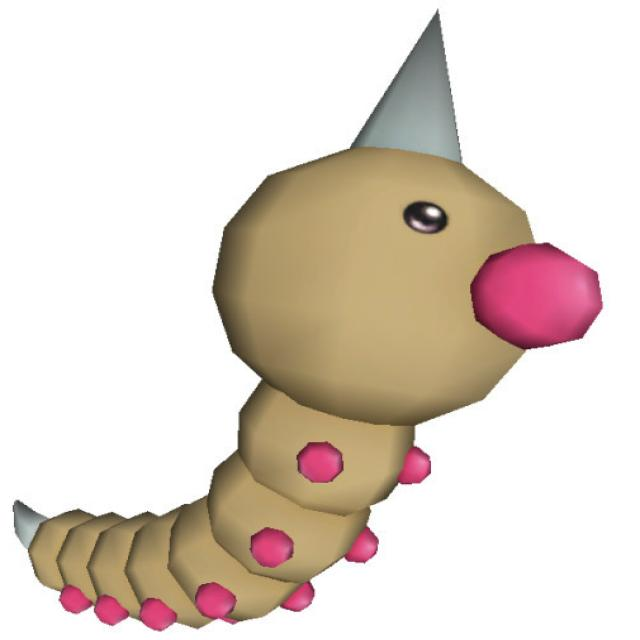Weedle: (114, 151, 546, 628)
